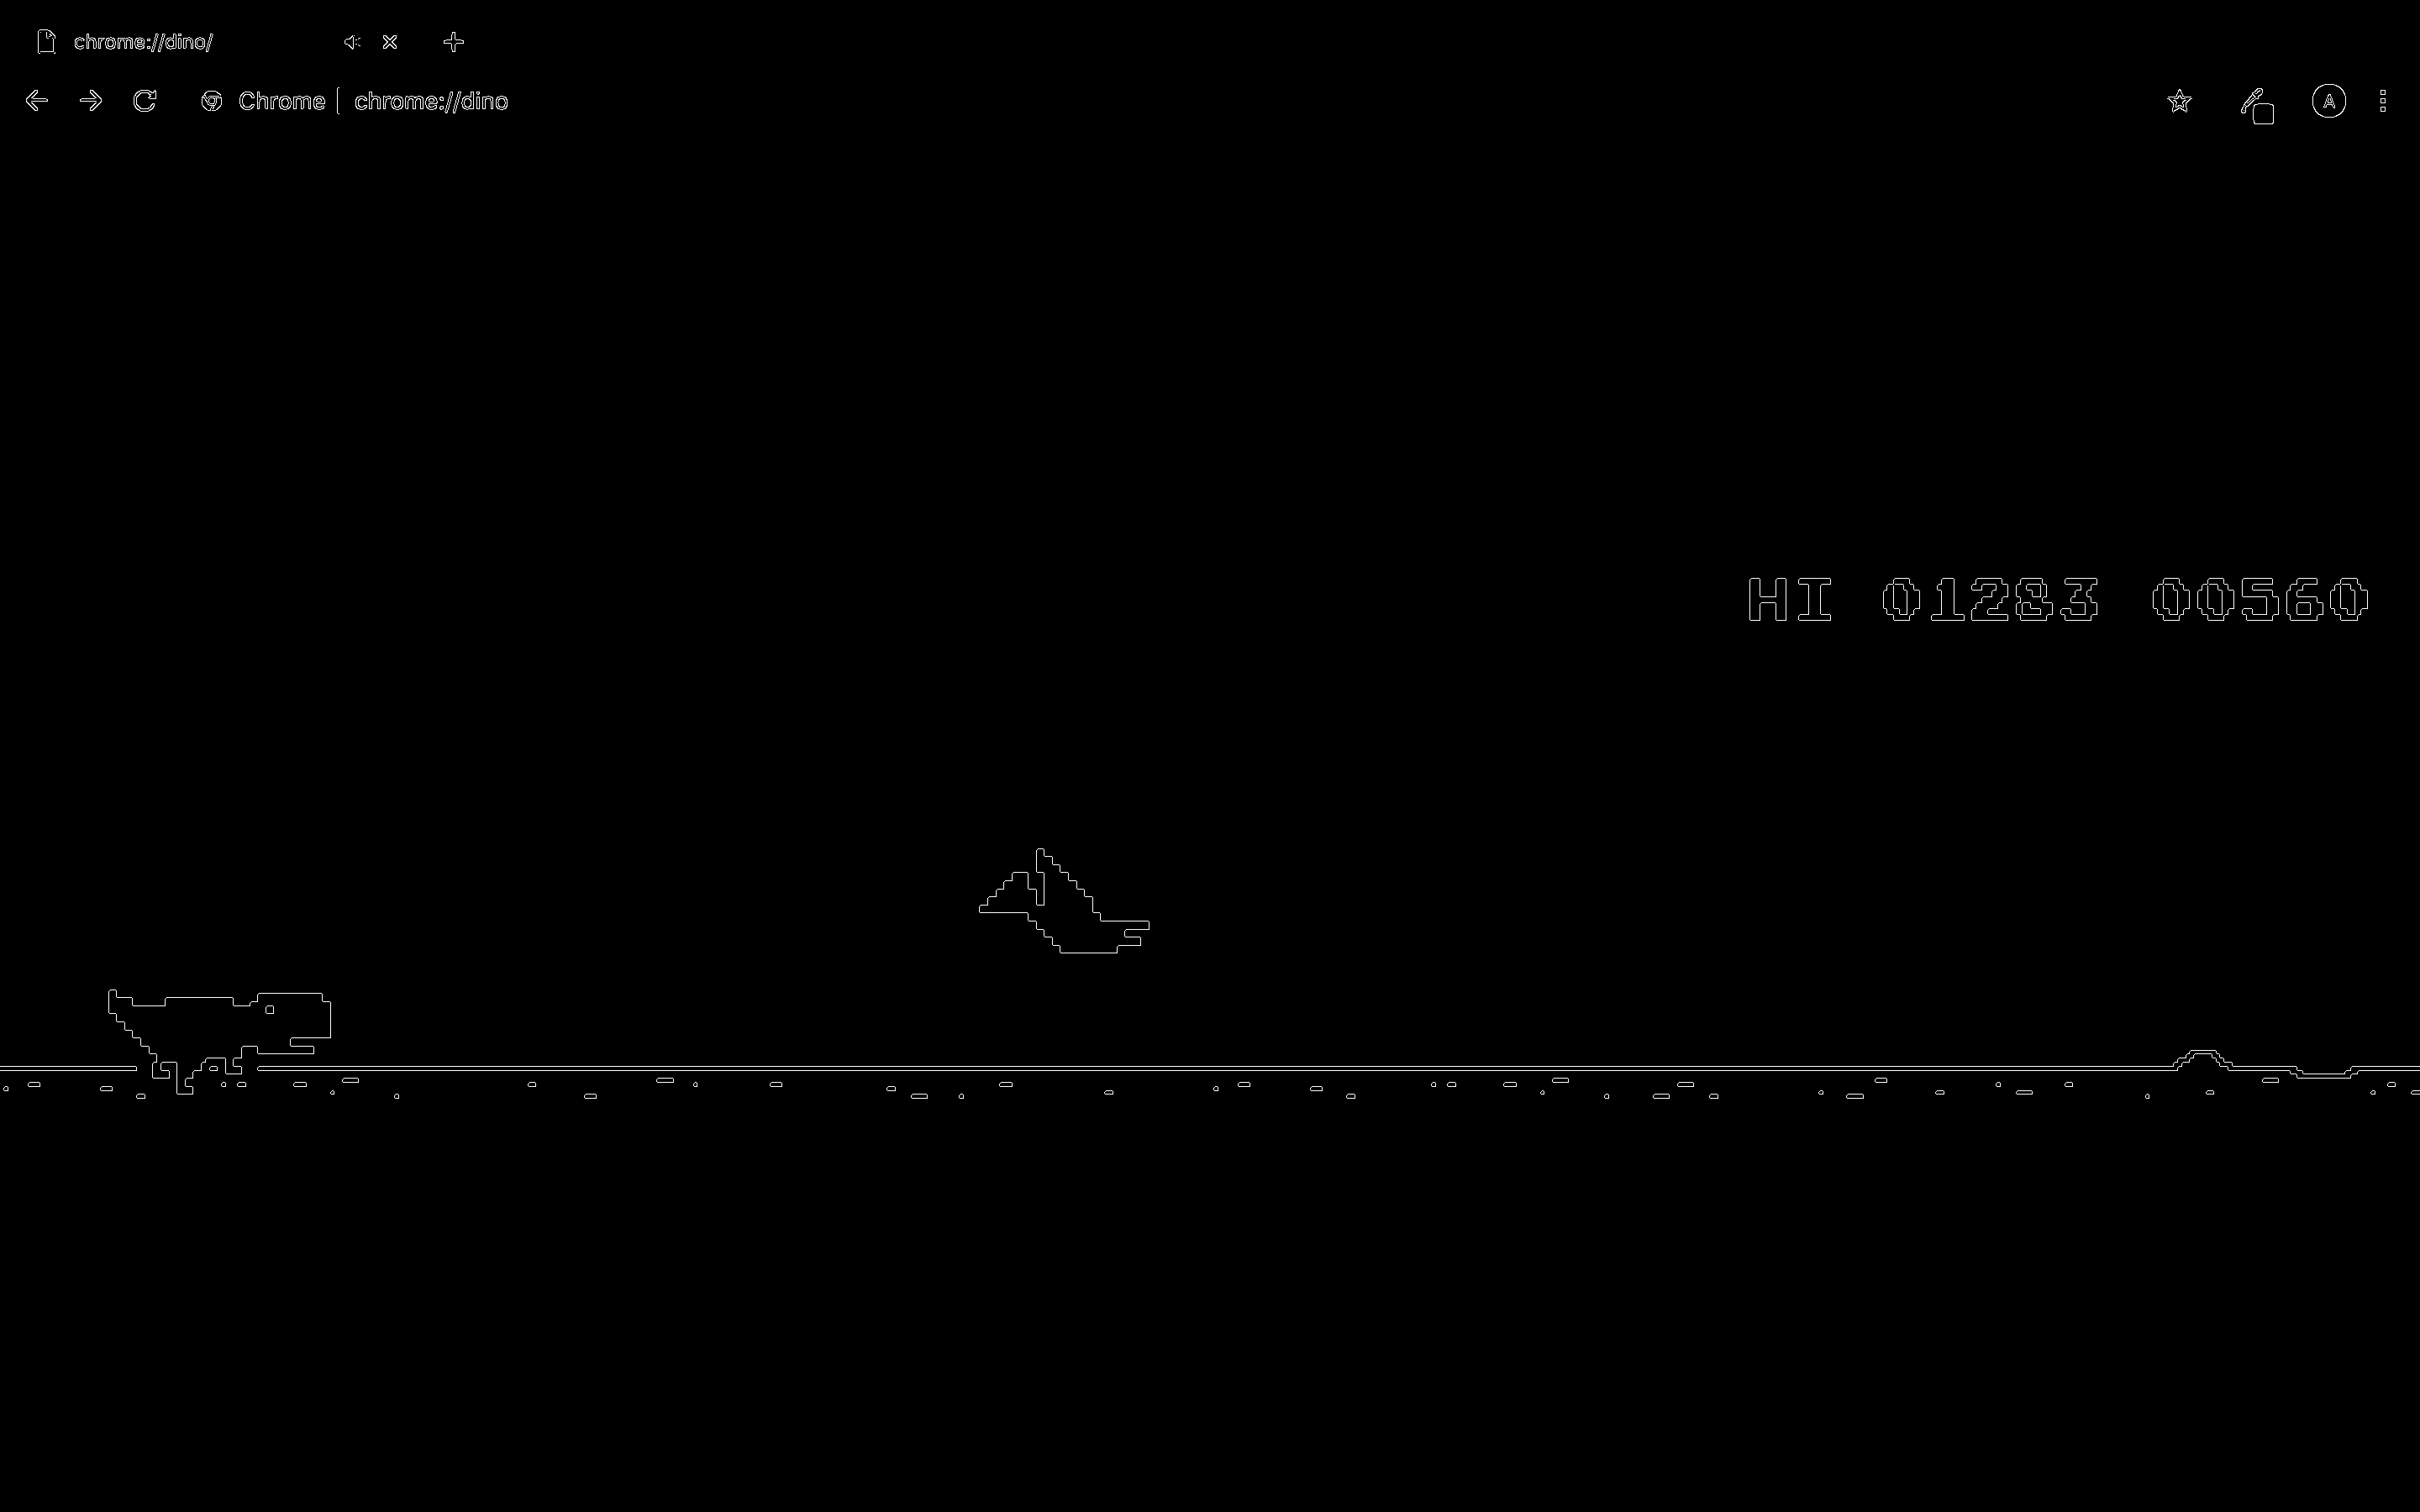Bird: (979, 848, 1153, 965)
Dino: (103, 981, 336, 1092)
